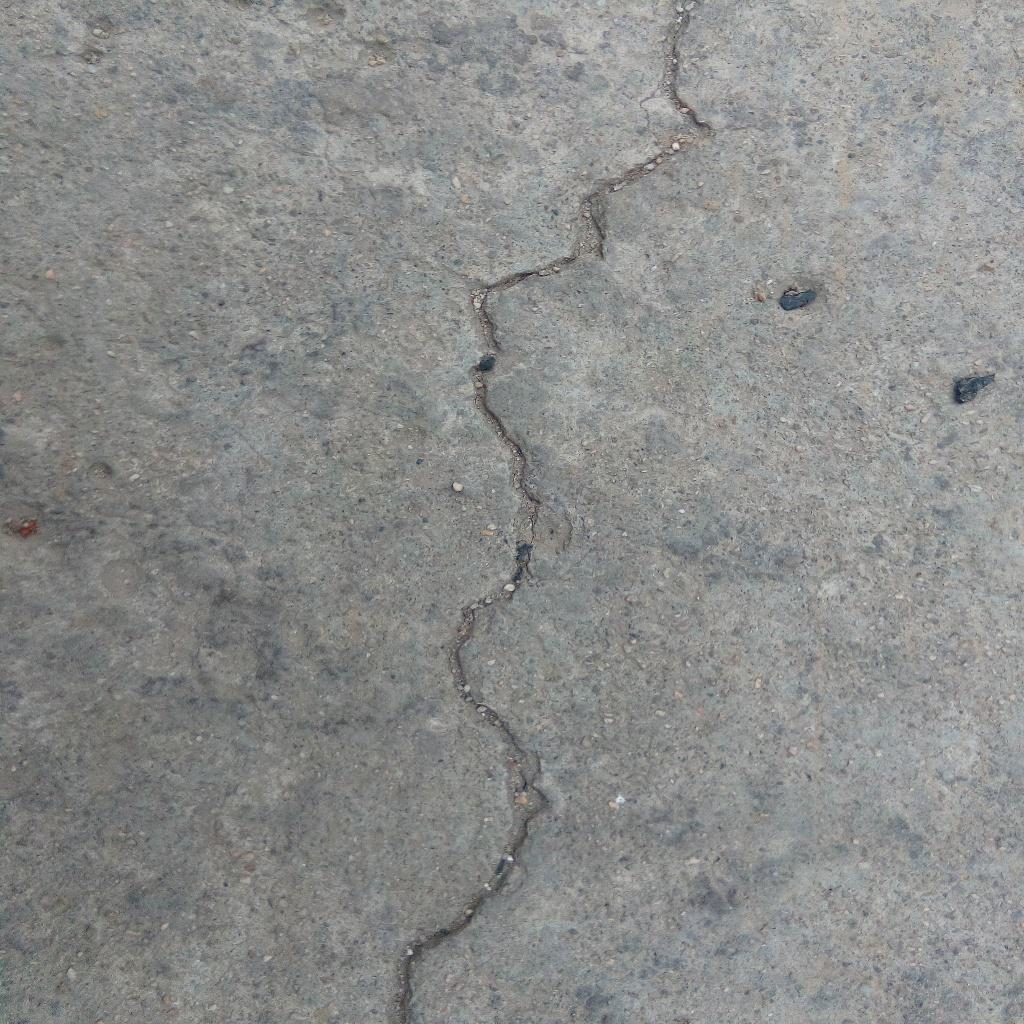Crack: (389, 1, 713, 1024)
